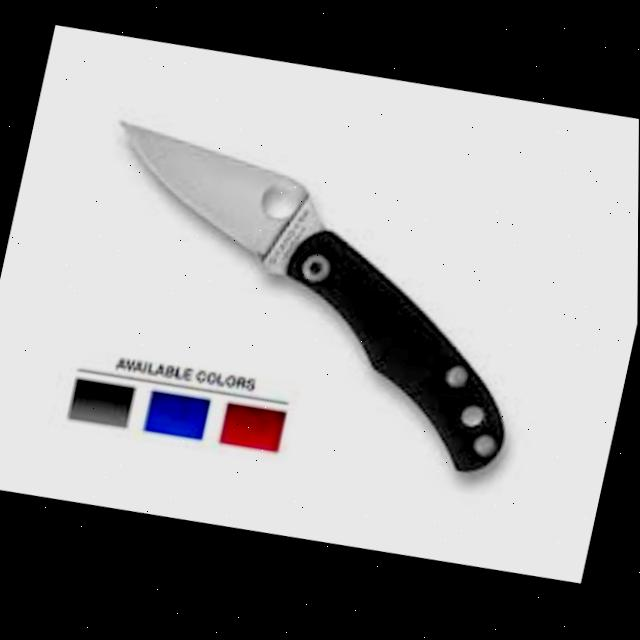Knife: (54, 98, 560, 500)
